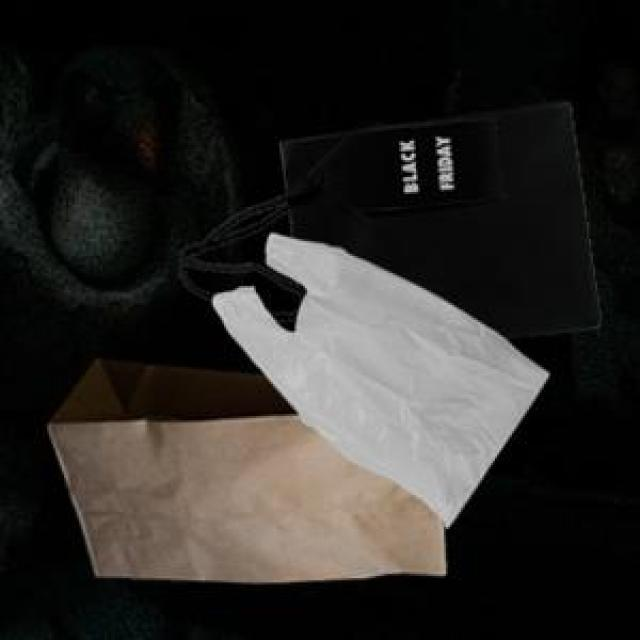paper: (177, 98, 595, 335), (43, 354, 442, 578)
